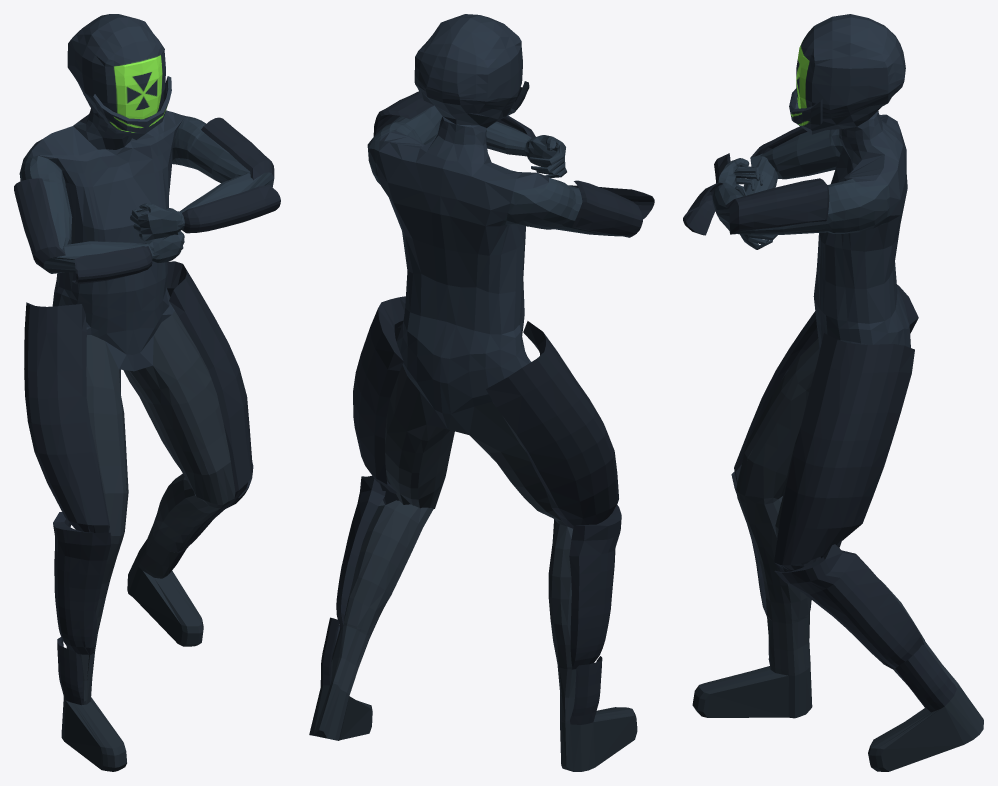
The model's file is Bastion_WB_000018.obj.
The picture shows the model from 3 angles, left to right: view 1: azimuth 30°, elevation 25°; view 2: azimuth 150°, elevation 25°; view 3: azimuth 270°, elevation 25°; orthographic projection. The views are drawn at different scales.
Parts seen in each view (by area): view 1: Cube.002; view 2: Cube.002; view 3: Cube.002.
Boxes of the visible parts, left/top/right/bottom form: Cube.002: left=14, top=14, right=280, bottom=771; Cube.002: left=309, top=14, right=654, bottom=771; Cube.002: left=683, top=14, right=983, bottom=771.
Size of the model in its own units: 1.36 by 3.74 by 1.39.
